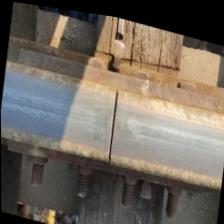person: (53, 55, 173, 183)
